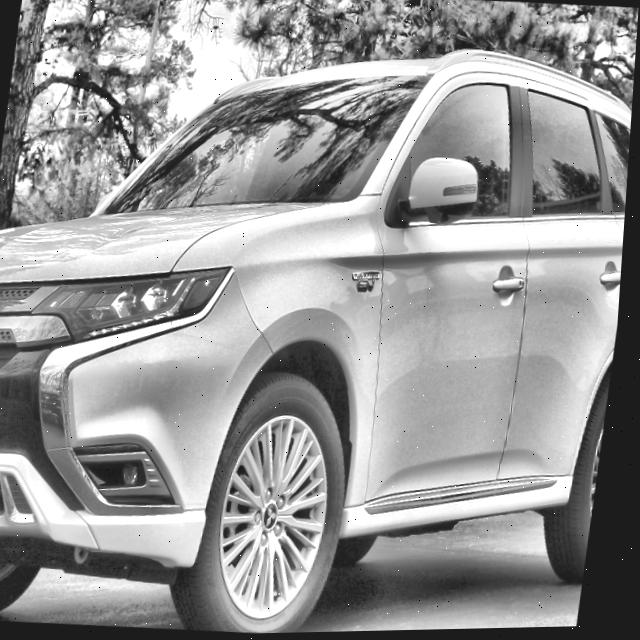light_vehicle: (0, 10, 639, 640)
